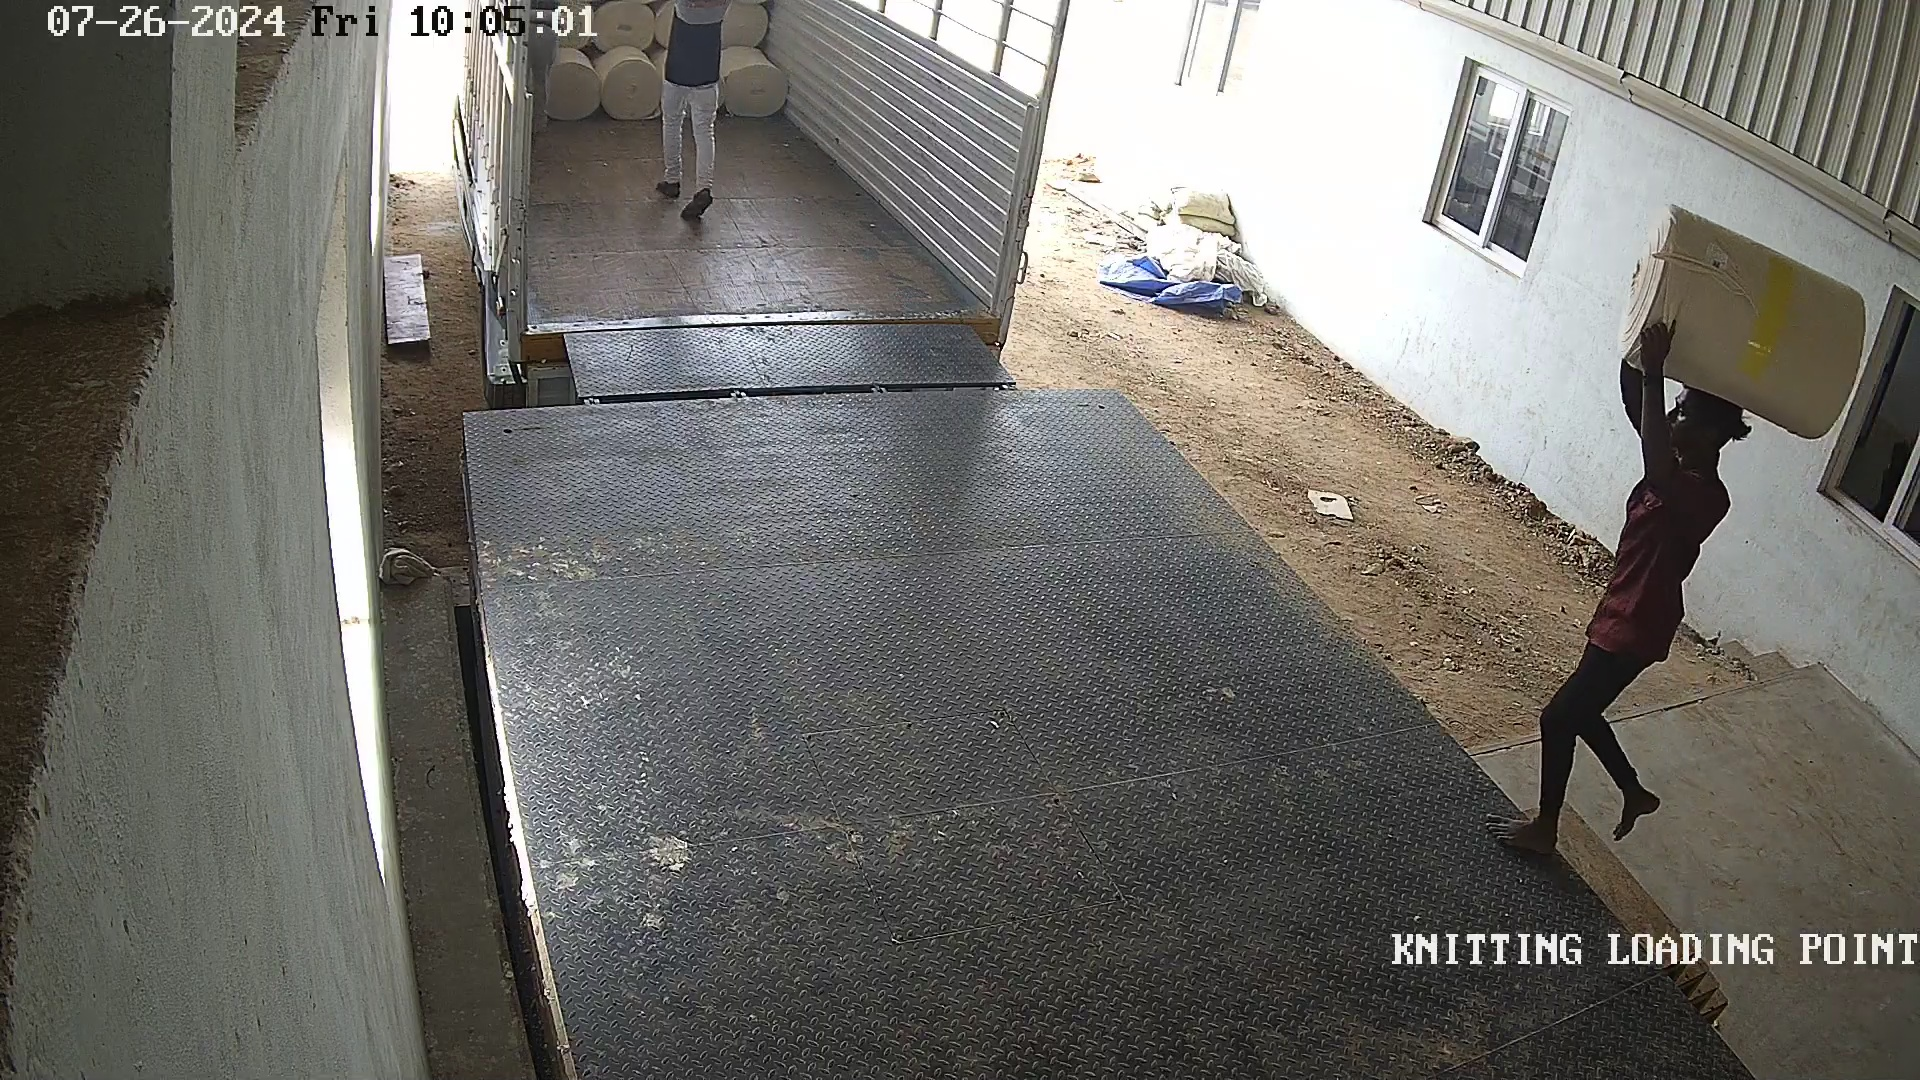bag: (1610, 194, 1884, 451)
